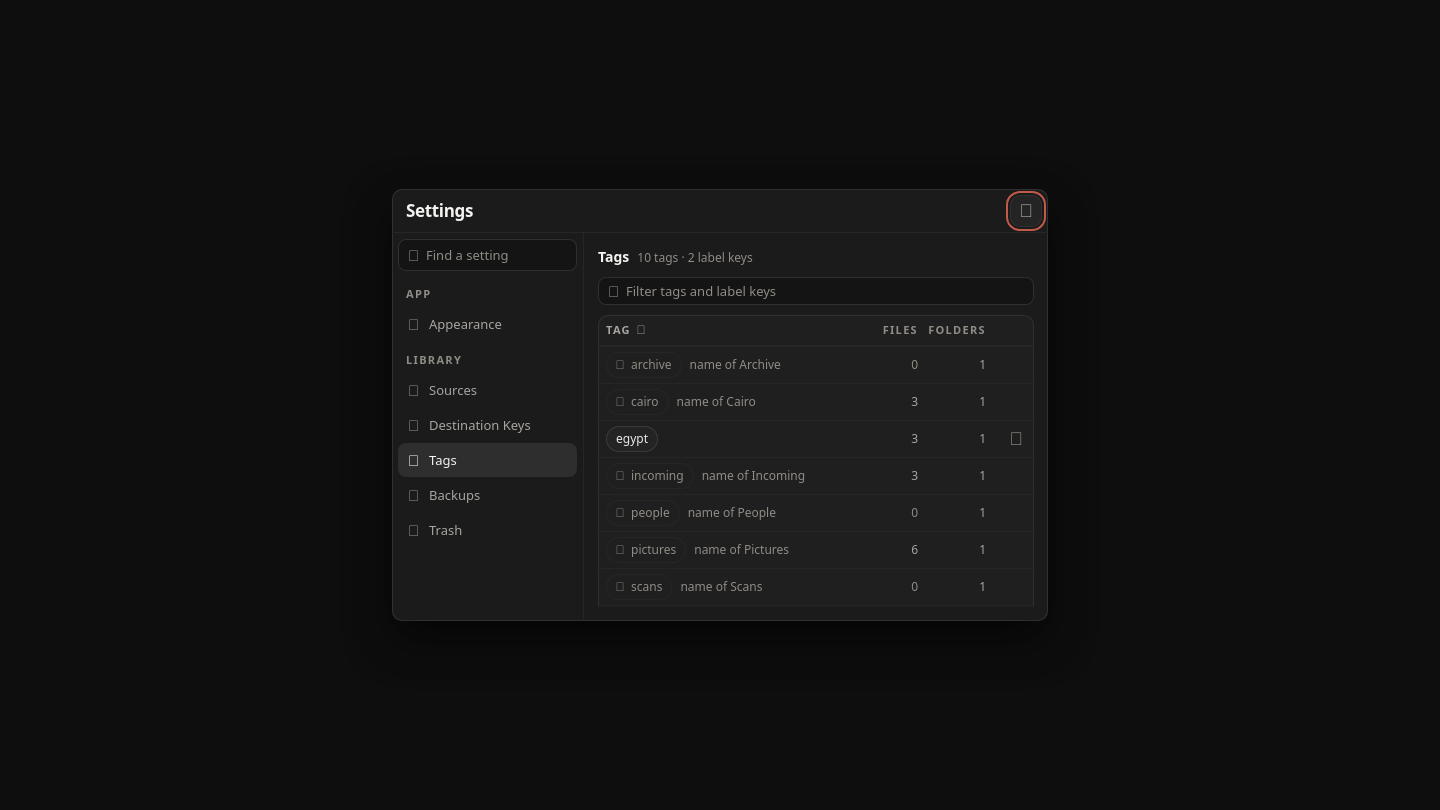
it: Ctrl+Z in the section tries a failed undo again
The width and height of the screenshot is (1440, 810).
Click the button named "More for egypt": (1016, 439) [1002,425,1030,453]
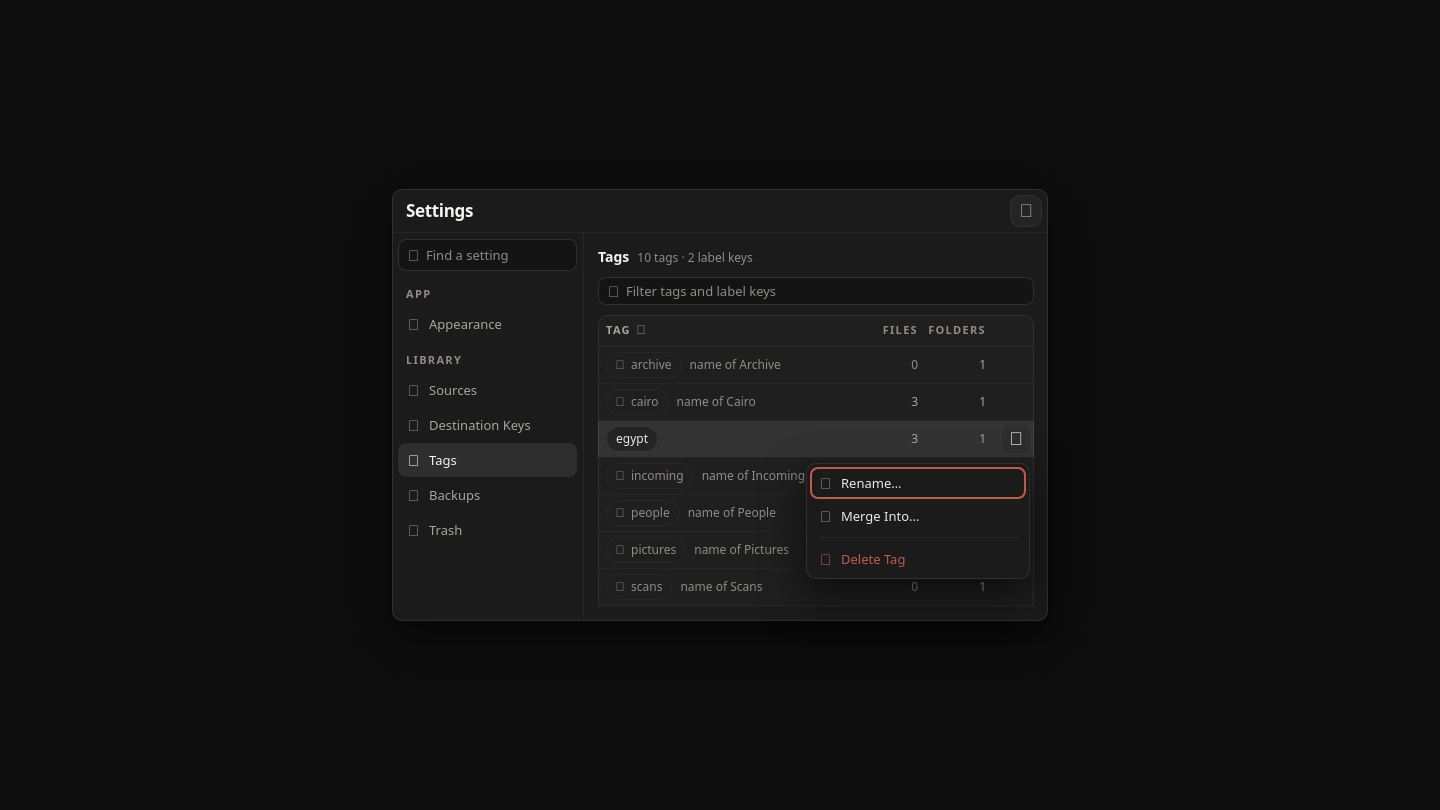
Click the menu item "Rename…": (918, 483) [810,467,1026,499]
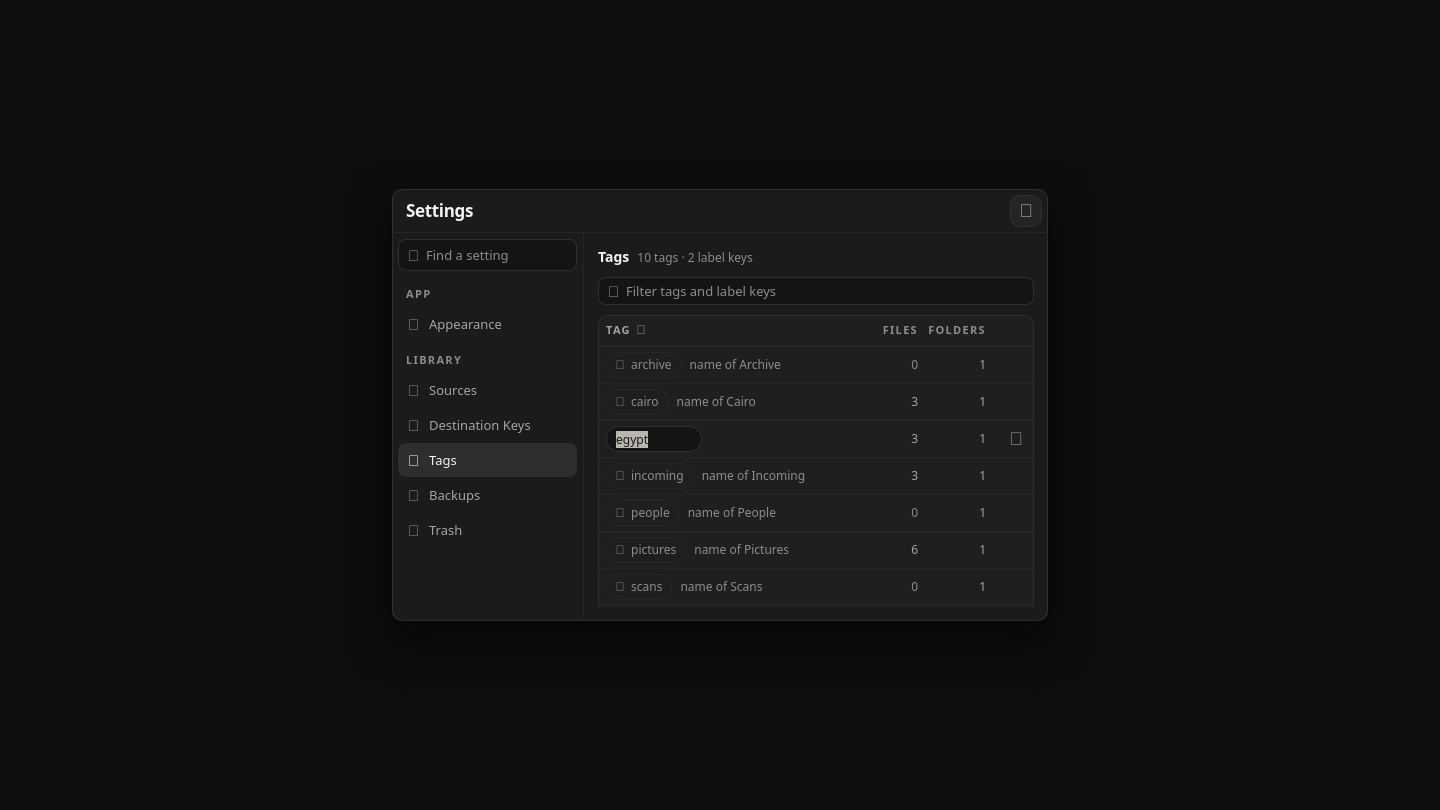
Type keys "nile{Enter}"
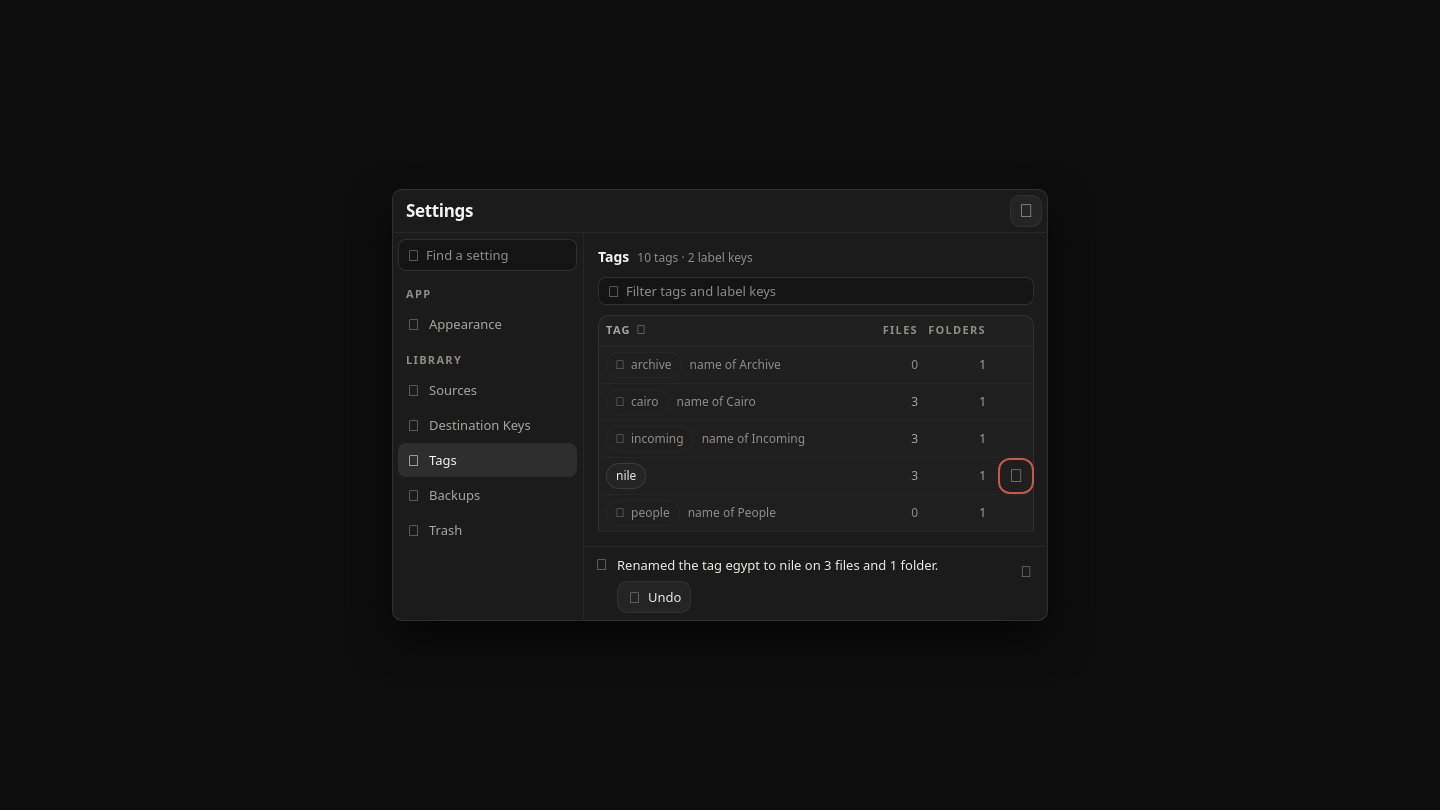
Check: the text "nile" is shown, box [616,468,636,484]
Type keys "{Control>}z{/Control}"
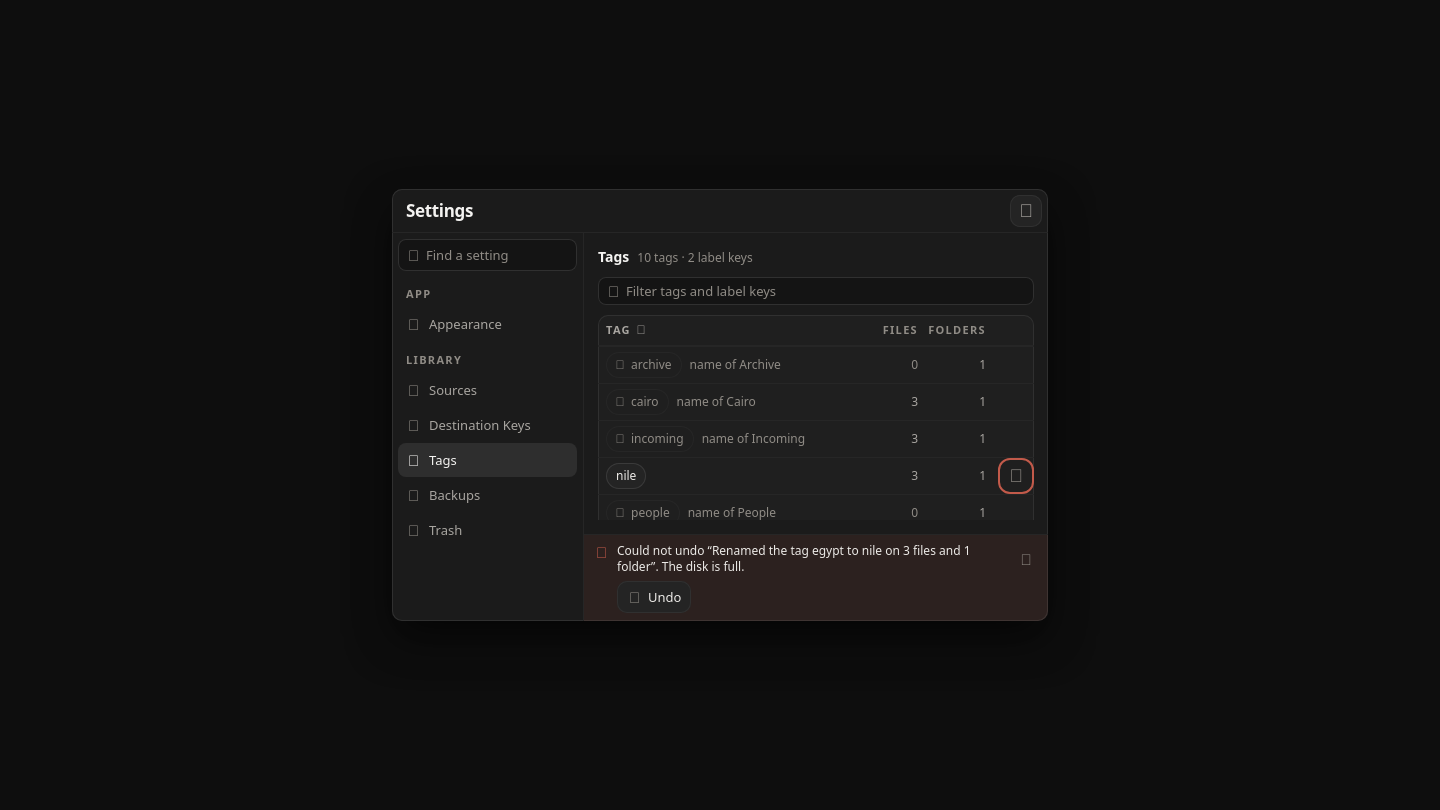
Type keys "{Control>}z{/Control}"
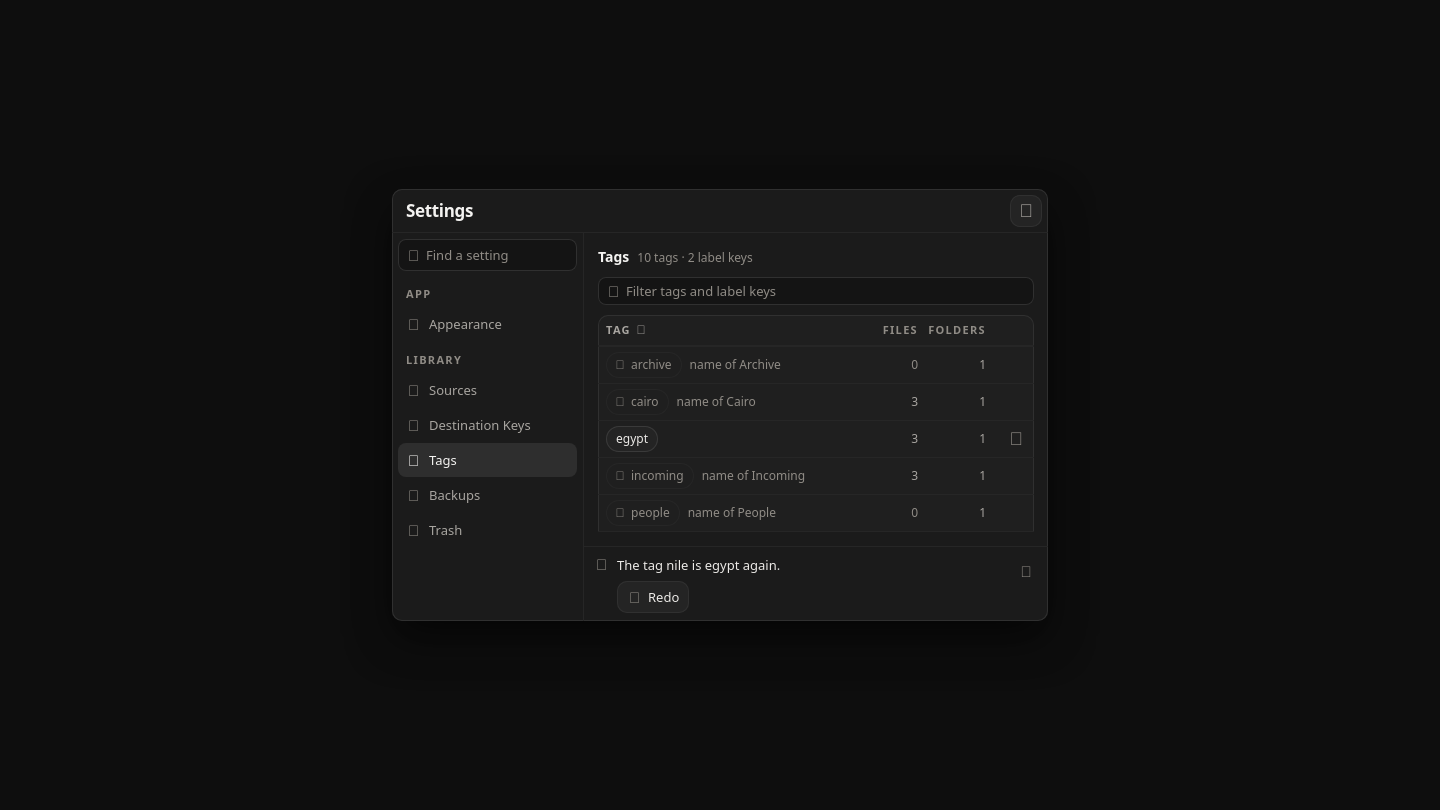
Check: the text "egypt" is shown, box [616,431,648,447]
Check: the text "The tag nile is egypt again." is shown, box [617,555,780,575]
